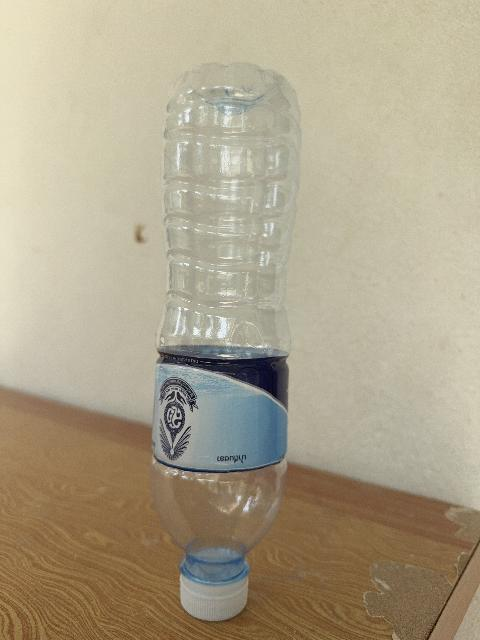bottle: (152, 64, 300, 620)
